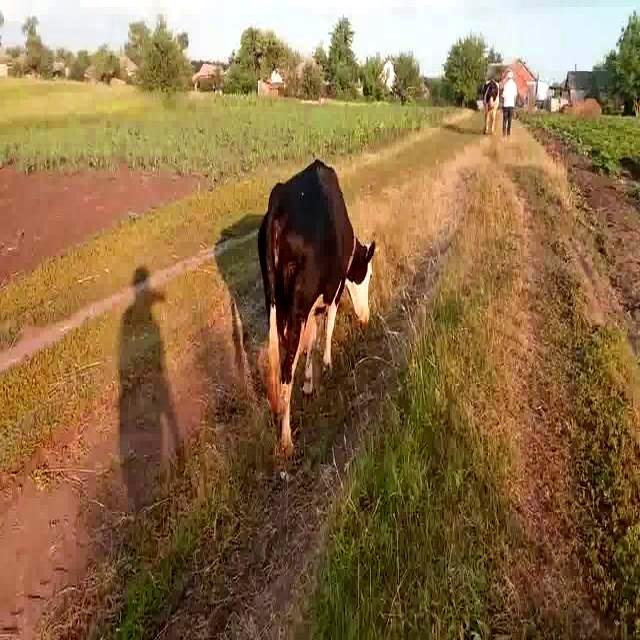COW: (258, 160, 375, 456)
